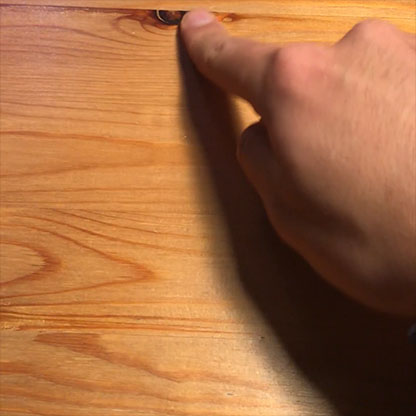fingertip: (176, 6, 224, 41)
